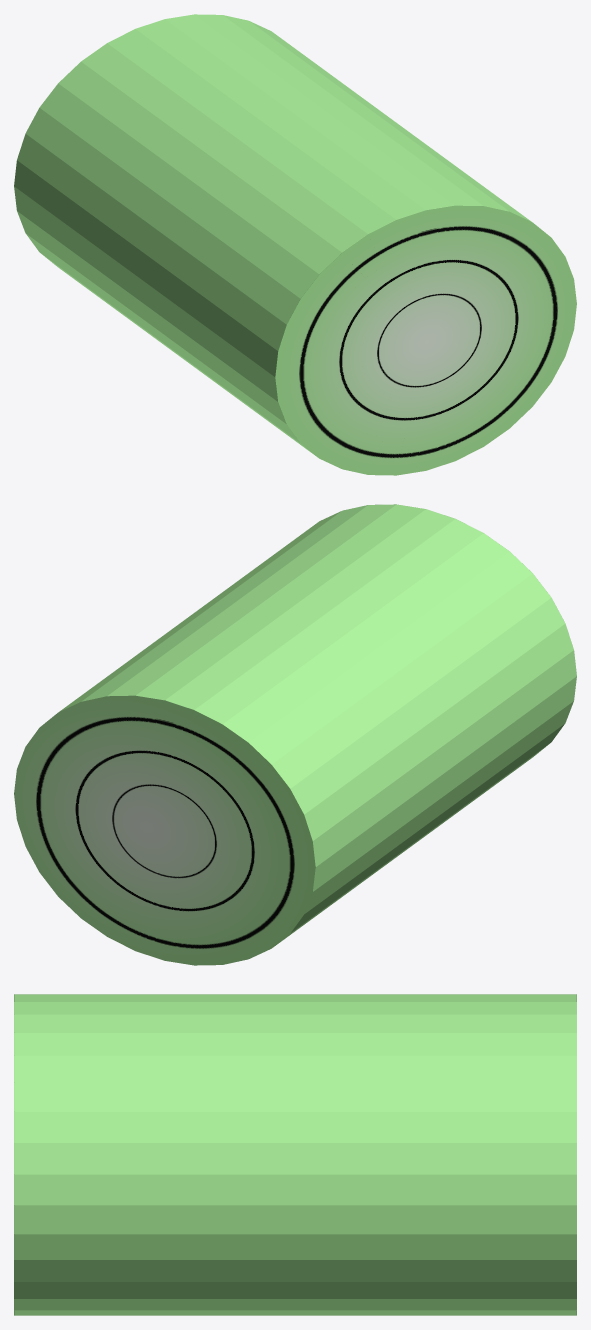
The model's file is Leek.fbx.
3 renders of one model, top to bottom at view 1: azimuth 30°, elevation 25°; view 2: azimuth 150°, elevation 25°; view 3: azimuth 270°, elevation 25°, orthographic. The views are drawn at different scales.
Parts seen in each view (by area): view 1: Leek; view 2: Leek; view 3: Leek.
Part boxes in pixels (left/top/right/bottom): Leek: left=14, top=14, right=576, bottom=475; Leek: left=14, top=504, right=576, bottom=965; Leek: left=14, top=994, right=576, bottom=1315.
Bounding box in the file's own units: 800 × 660 × 1200.
1 material, 1 textured.
